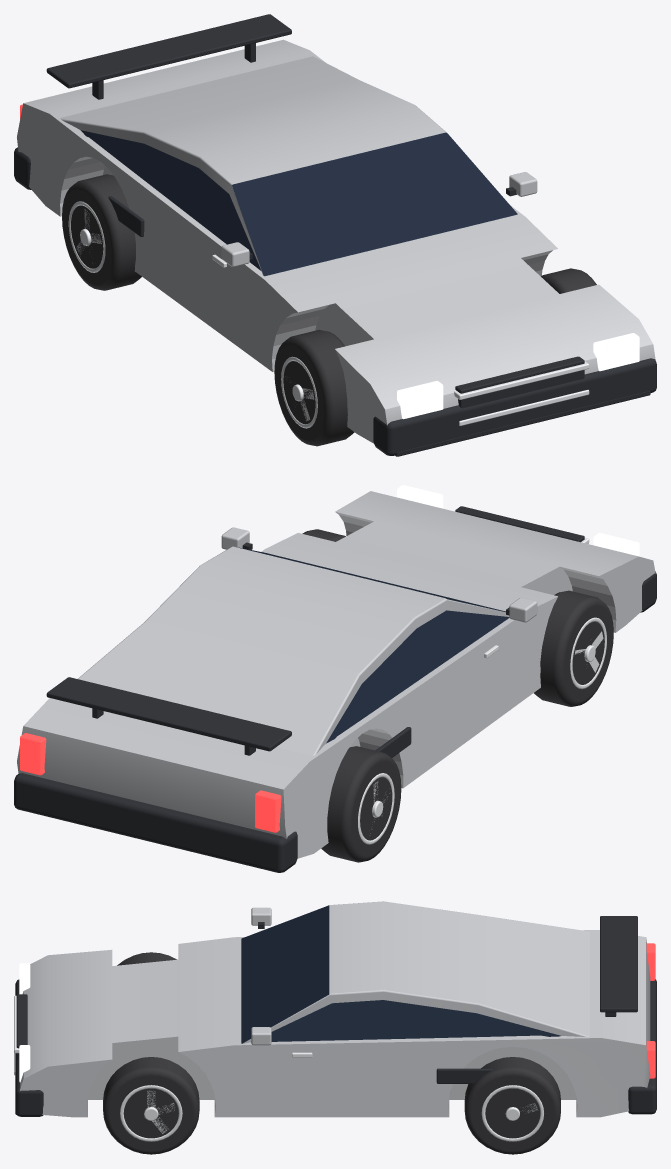
File: sports.glb
3 views of the same model, one above another, from view 1: azimuth 30°, elevation 25°; view 2: azimuth 150°, elevation 25°; view 3: azimuth 270°, elevation 25° (orthographic). The views are drawn at different scales.
Visible parts, largest first — view 1: body_paint, body_trim, wheel_FR, wheel_RR, wheel_FL; view 2: body_paint, body_trim, wheel_FR, wheel_RR; view 3: body_paint, body_trim, wheel_FL, wheel_RL, wheel_FR.
Boxes of the visible parts, <box> form: body_paint: <box>17,39,655,443</box>; body_trim: <box>14,14,656,456</box>; wheel_FR: <box>274,330,354,446</box>; wheel_RR: <box>62,174,141,290</box>; wheel_FL: <box>541,268,596,293</box>; body_paint: <box>17,491,655,858</box>; body_trim: <box>14,485,656,872</box>; wheel_FR: <box>534,590,613,706</box>; wheel_RR: <box>321,746,401,862</box>; body_paint: <box>20,901,650,1117</box>; body_trim: <box>14,905,656,1116</box>; wheel_FL: <box>103,1057,199,1154</box>; wheel_RL: <box>464,1057,560,1154</box>; wheel_FR: <box>117,952,176,965</box>.
Size of the model in its own units: 2.21 by 1.23 by 4.73.
